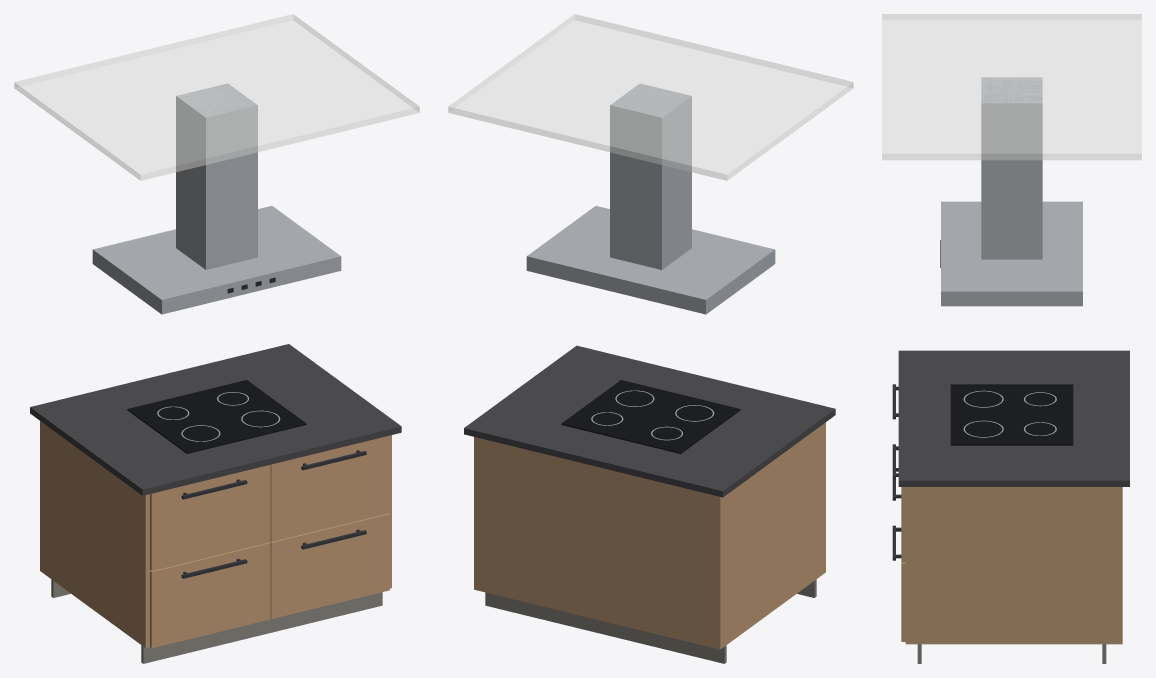
The model's file is import-app.glb.
The picture shows the model from 3 angles, left to right: view 1: azimuth 30°, elevation 25°; view 2: azimuth 150°, elevation 25°; view 3: azimuth 270°, elevation 25°; orthographic projection. The views are drawn at different scales.
Parts seen in each view (by area): view 1: 천장, 상판, 아일랜드 옆 마감, 후드 굴뚝, 후드 갓, 아일랜드 위 서랍 1, 아일랜드 아래 서랍 1, 아일랜드 위 서랍 2, 아일랜드 아래 서랍 2, 쿡탑, 걸레받이; view 2: 천장, 아일랜드 뒤 마감, 상판, 아일랜드 옆 마감, 후드 굴뚝, 후드 갓, 쿡탑, 걸레받이.001, 아일랜드 옆 마감.001; view 3: 천장, 아일랜드 옆 마감.001, 상판, 후드 갓, 후드 굴뚝, 쿡탑, 아일랜드 아래 서랍 2.
Boxes of the visible parts, x1,y1,x2,y2 form: 천장: (14, 14, 419, 180); 상판: (30, 344, 401, 495); 아일랜드 옆 마감: (40, 421, 149, 647); 후드 굴뚝: (176, 83, 257, 269); 후드 갓: (92, 206, 341, 314); 아일랜드 위 서랍 1: (149, 464, 270, 570); 아일랜드 아래 서랍 1: (149, 542, 270, 648); 아일랜드 위 서랍 2: (270, 435, 389, 541); 아일랜드 아래 서랍 2: (270, 513, 389, 618); 쿡탑: (127, 380, 306, 453); 걸레받이: (141, 592, 382, 663); 천장: (448, 14, 853, 180); 아일랜드 뒤 마감: (477, 438, 716, 648); 상판: (464, 345, 835, 497); 아일랜드 옆 마감: (716, 422, 825, 649); 후드 굴뚝: (610, 83, 691, 269); 후드 갓: (526, 206, 775, 314); 쿡탑: (561, 380, 740, 453); 걸레받이.001: (485, 592, 726, 663); 아일랜드 옆 마감.001: (474, 437, 477, 590); 천장: (882, 14, 1141, 160); 아일랜드 옆 마감.001: (905, 487, 1122, 644); 상판: (898, 350, 1129, 486); 후드 갓: (941, 201, 1082, 306); 후드 굴뚝: (981, 77, 1042, 259); 쿡탑: (950, 384, 1073, 445); 아일랜드 아래 서랍 2: (901, 562, 905, 641).
Bounding box in the file's own units: 1.4 × 2.43 × 1.1.
